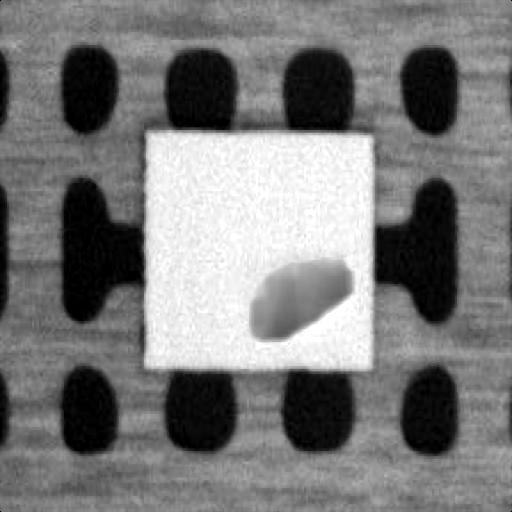DIE_INK: (244, 258, 352, 350)
